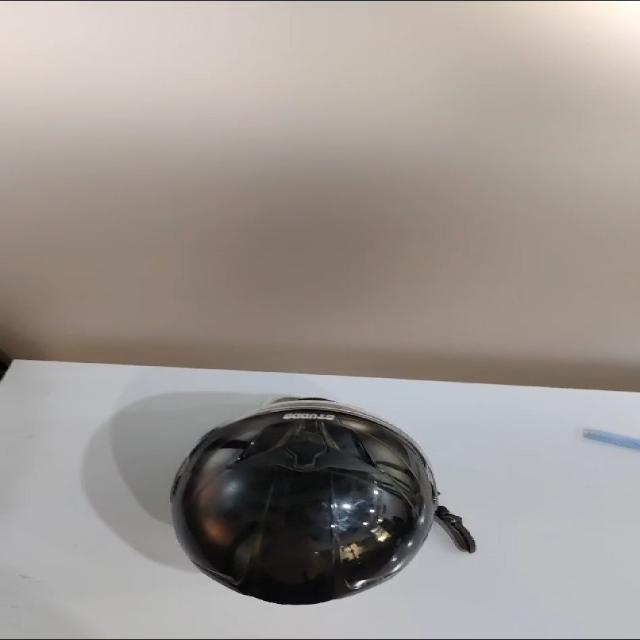helmet: (154, 396, 443, 614)
